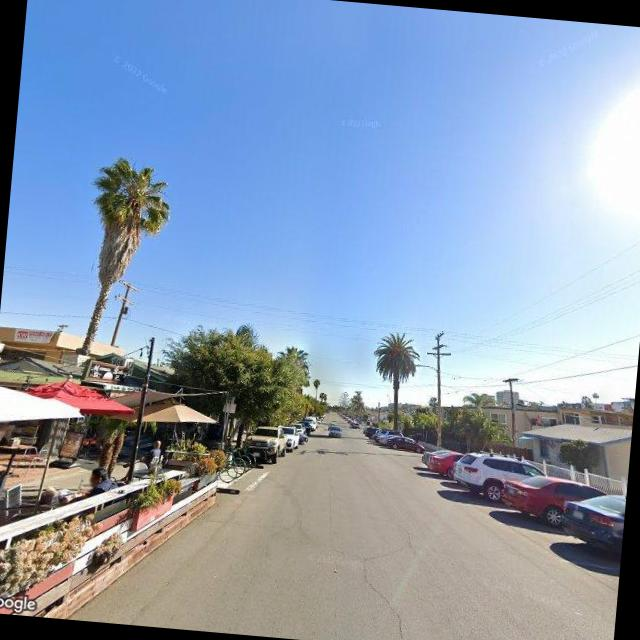pothole: (351, 544, 419, 640)
